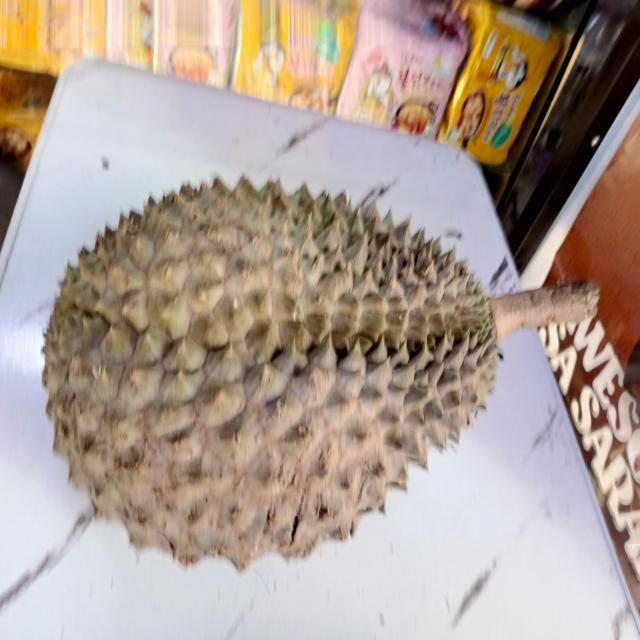mature: (41, 163, 508, 592)
